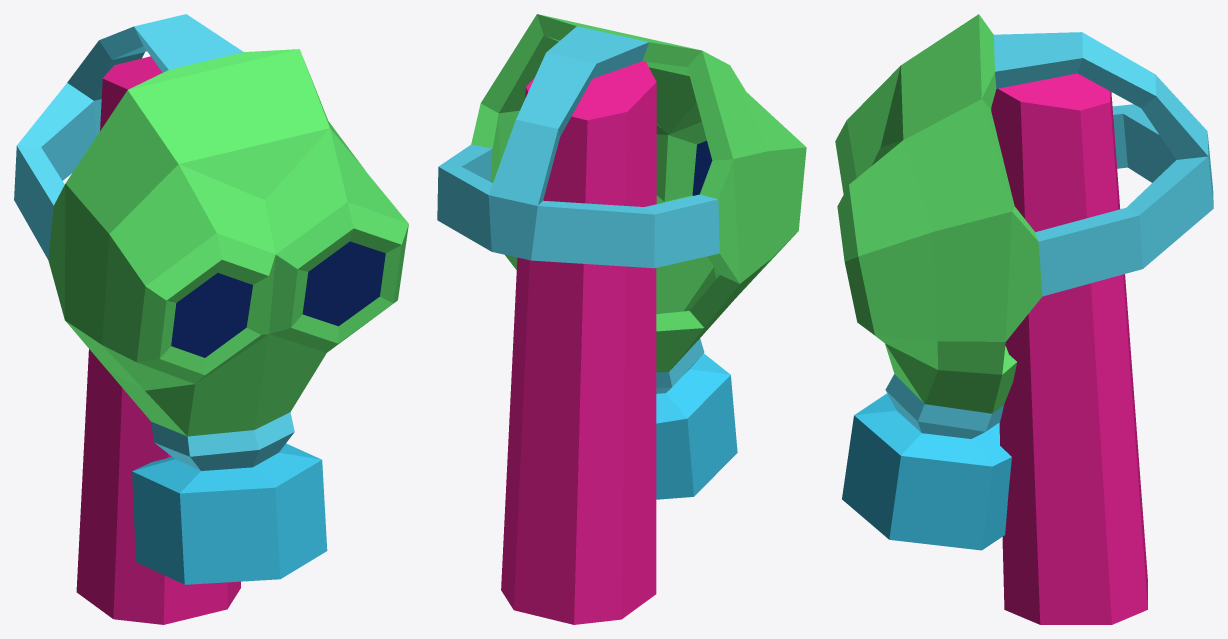
Rendered from 025_GasMask.fbx.
3 renders of one model, left to right at view 1: azimuth 30°, elevation 25°; view 2: azimuth 150°, elevation 25°; view 3: azimuth 270°, elevation 25°, orthographic. The views are drawn at different scales.
Visible parts, largest first — view 1: GasMask; view 2: GasMask; view 3: GasMask.
Boxes of the visible parts, box(x1,y1,x2,y2) form: GasMask: box(14, 14, 408, 624); GasMask: box(437, 14, 806, 624); GasMask: box(835, 14, 1213, 624).
Size of the model in its own units: 53.04 by 106 by 65.95.
